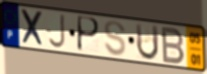B: (161, 26, 187, 66)
J: (47, 14, 67, 51)
P: (76, 14, 101, 54)
S: (103, 20, 128, 58)
U: (134, 22, 160, 62)
X: (19, 8, 47, 49)
